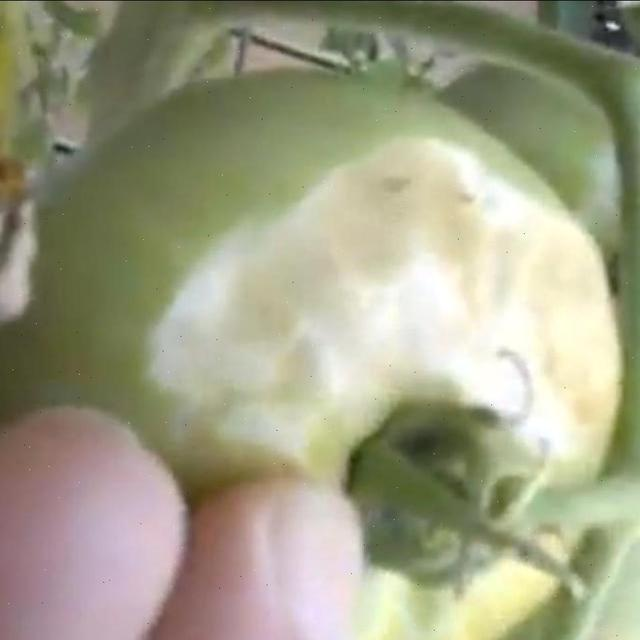Sunscald Fruit: (85, 86, 414, 309)
